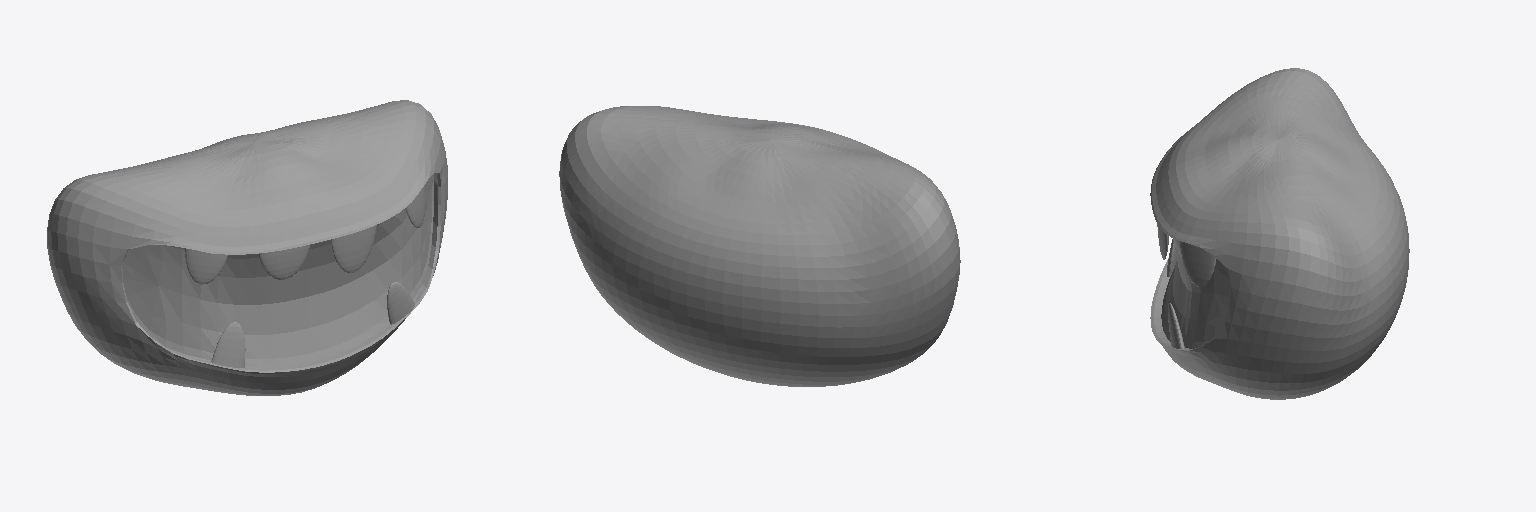
The model's file is glumb_mouth.obj.
3 renders of one model, left to right at view 1: azimuth 30°, elevation 25°; view 2: azimuth 150°, elevation 25°; view 3: azimuth 270°, elevation 25°, orthographic.
Visible parts, largest first — view 1: Mouth_Sphere; view 2: Mouth_Sphere; view 3: Mouth_Sphere.
Part boxes in pixels (left/top/right/bottom): Mouth_Sphere: left=47, top=100, right=447, bottom=395; Mouth_Sphere: left=559, top=106, right=960, bottom=386; Mouth_Sphere: left=1150, top=68, right=1409, bottom=399.
Size of the model in its own units: 3.34 by 1.91 by 1.95.